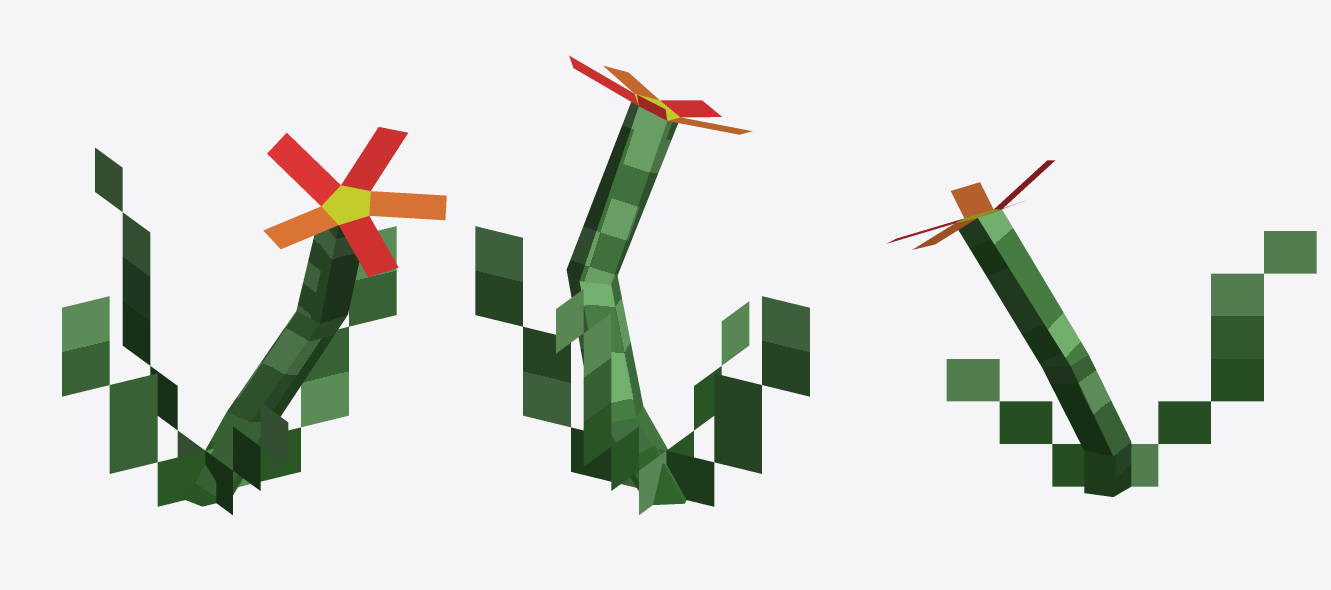
The model's file is Flower.gltf.
3 views of the same model, side by side, from view 1: azimuth 30°, elevation 25°; view 2: azimuth 150°, elevation 25°; view 3: azimuth 270°, elevation 25° (orthographic). The views are drawn at different scales.
Visible parts, largest first — view 1: leaf (×2), stem; view 2: leaf (×2), stem; view 3: leaf, stem.
Part boxes in pixels (x1,y1,x2,y2): leaf (×2): [62, 147, 396, 514]; stem: [185, 127, 446, 506]; leaf (×2): [475, 226, 809, 514]; stem: [566, 55, 752, 504]; leaf: [946, 231, 1316, 486]; stem: [887, 160, 1131, 496].
Bounding box in the file's own units: 0.625 × 0.625 × 0.6363.
1 material, 1 textured.
